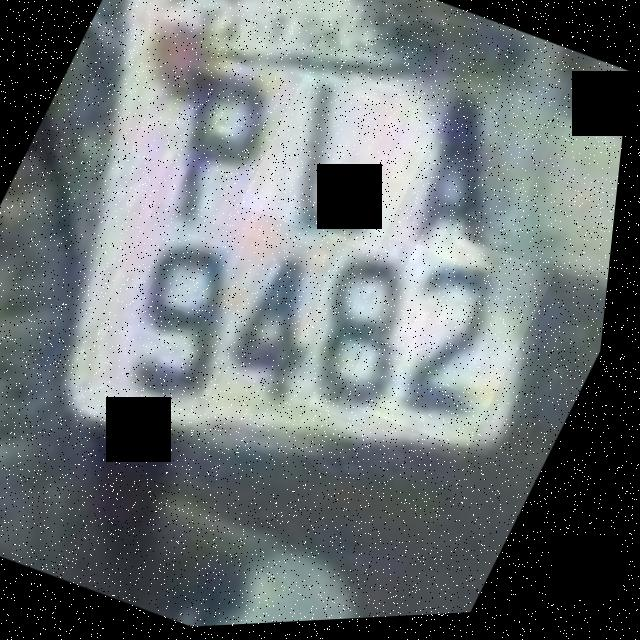2: (343, 224, 565, 460)
4: (182, 207, 393, 433)
8: (278, 222, 466, 438)
9: (78, 198, 295, 423)
A: (357, 59, 577, 285)
L: (239, 55, 455, 265)
P: (120, 41, 318, 255)
